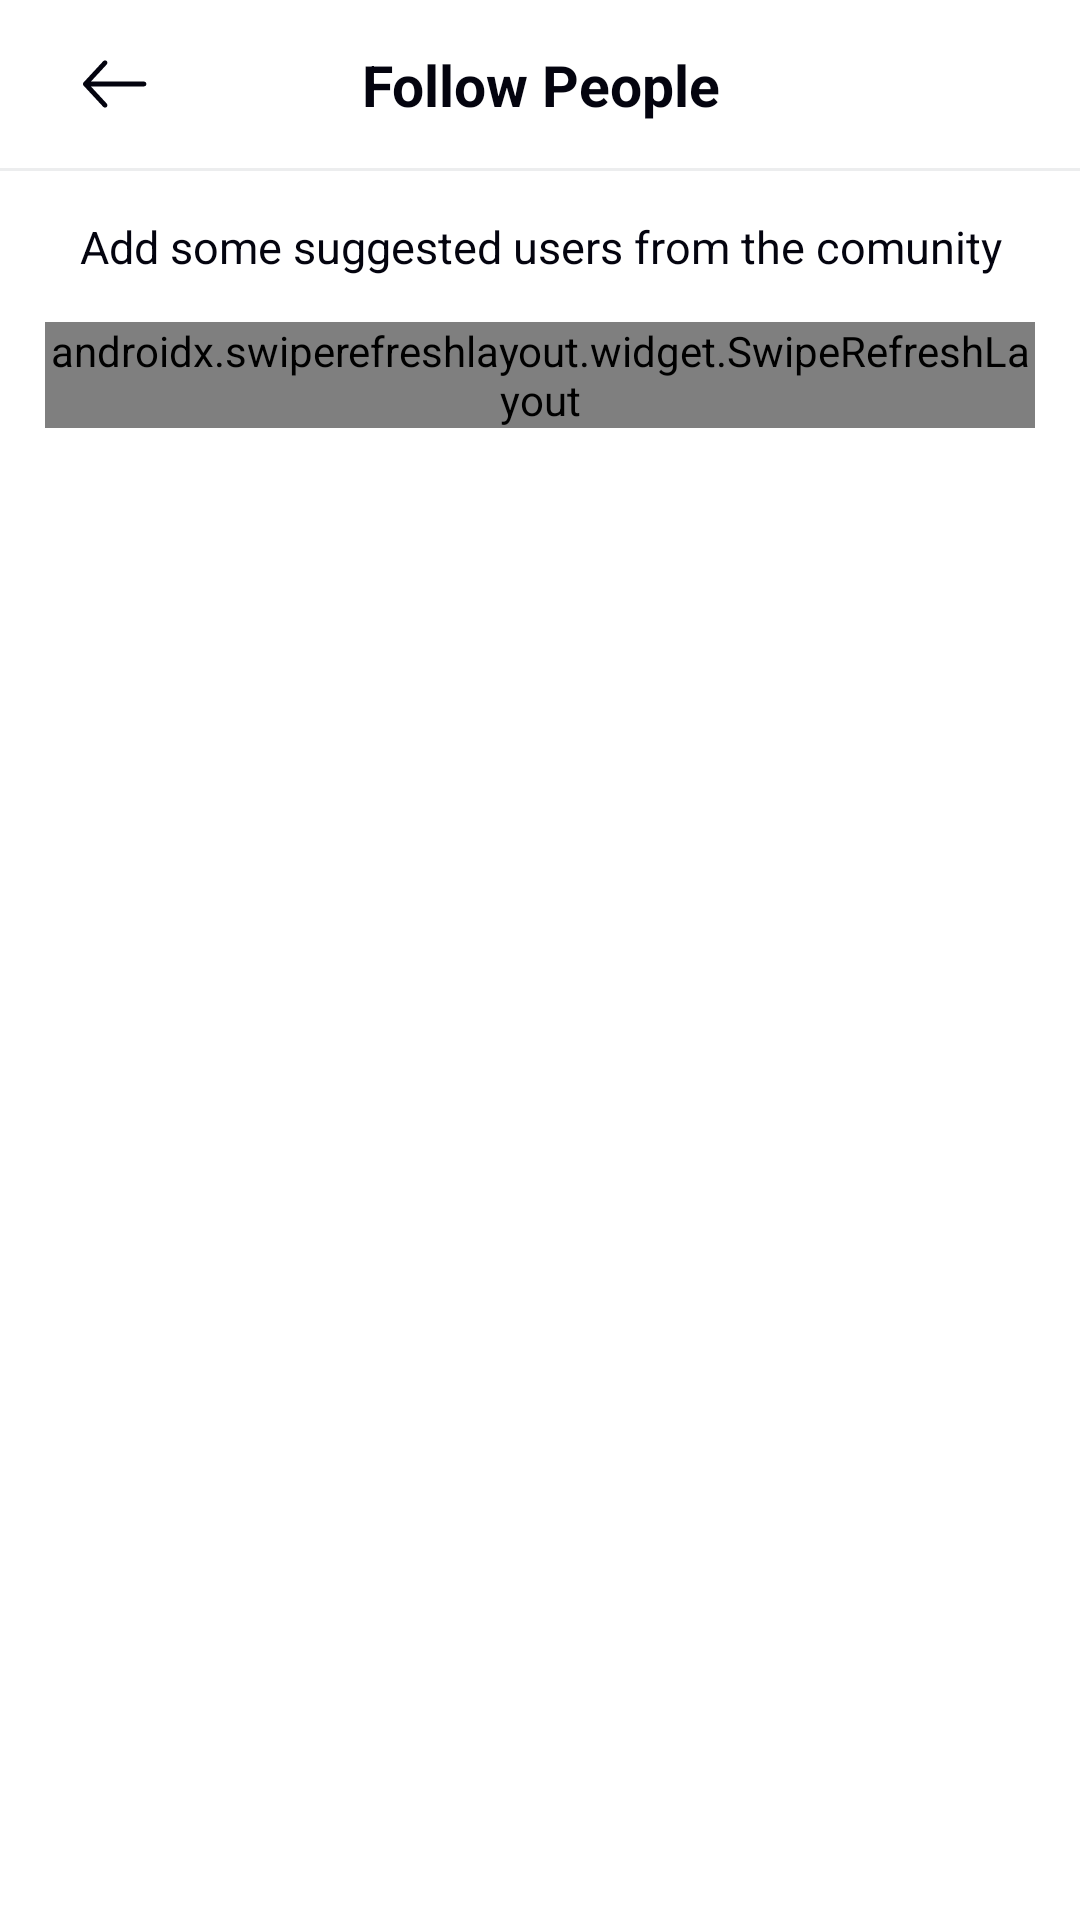

Screen size 1080*1920. Icon name, then its box in pixels as (x1, y1, x2, y2):
Button back: (83, 60, 147, 108)
